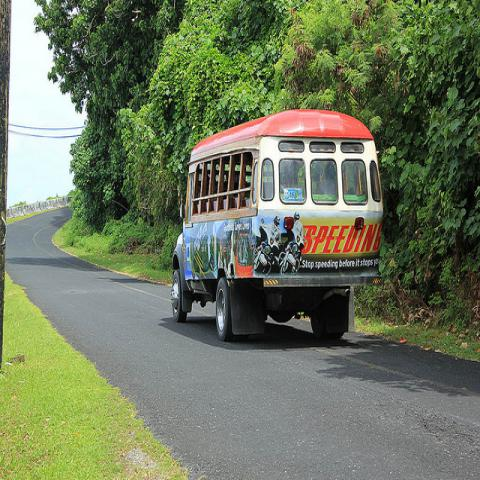bus: (171, 110, 385, 340)
